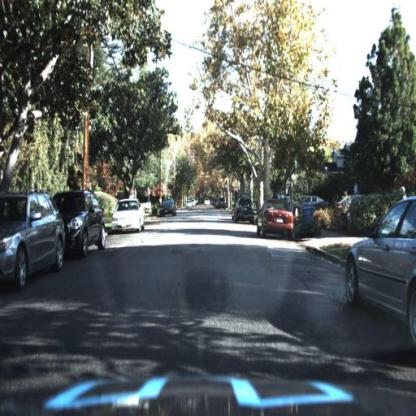car: (344, 197, 416, 354), (1, 189, 65, 283), (53, 190, 106, 252), (257, 197, 296, 237), (112, 198, 146, 235), (298, 192, 333, 217), (235, 198, 260, 228), (160, 197, 178, 218), (218, 195, 230, 212)
